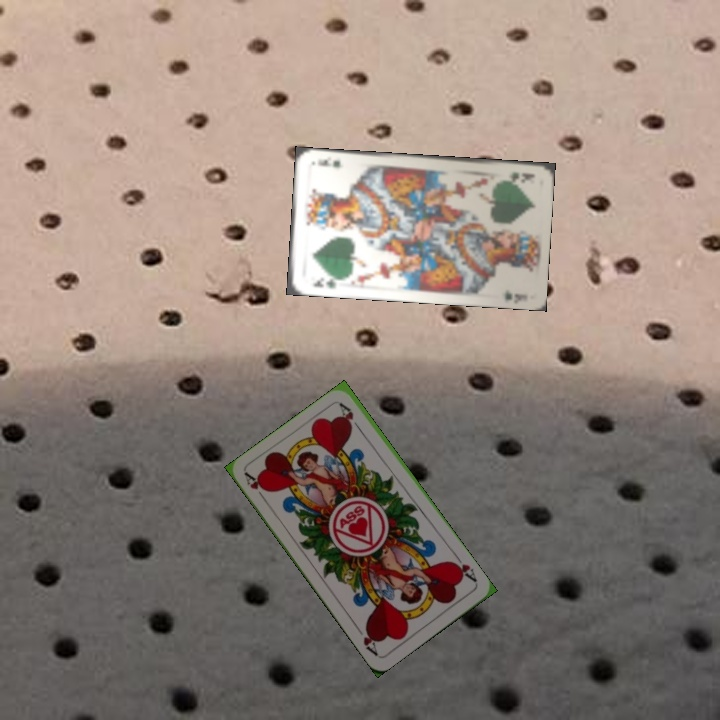GK: (309, 273, 343, 290), (505, 168, 537, 184)
HA: (447, 550, 480, 585), (241, 469, 270, 505)
